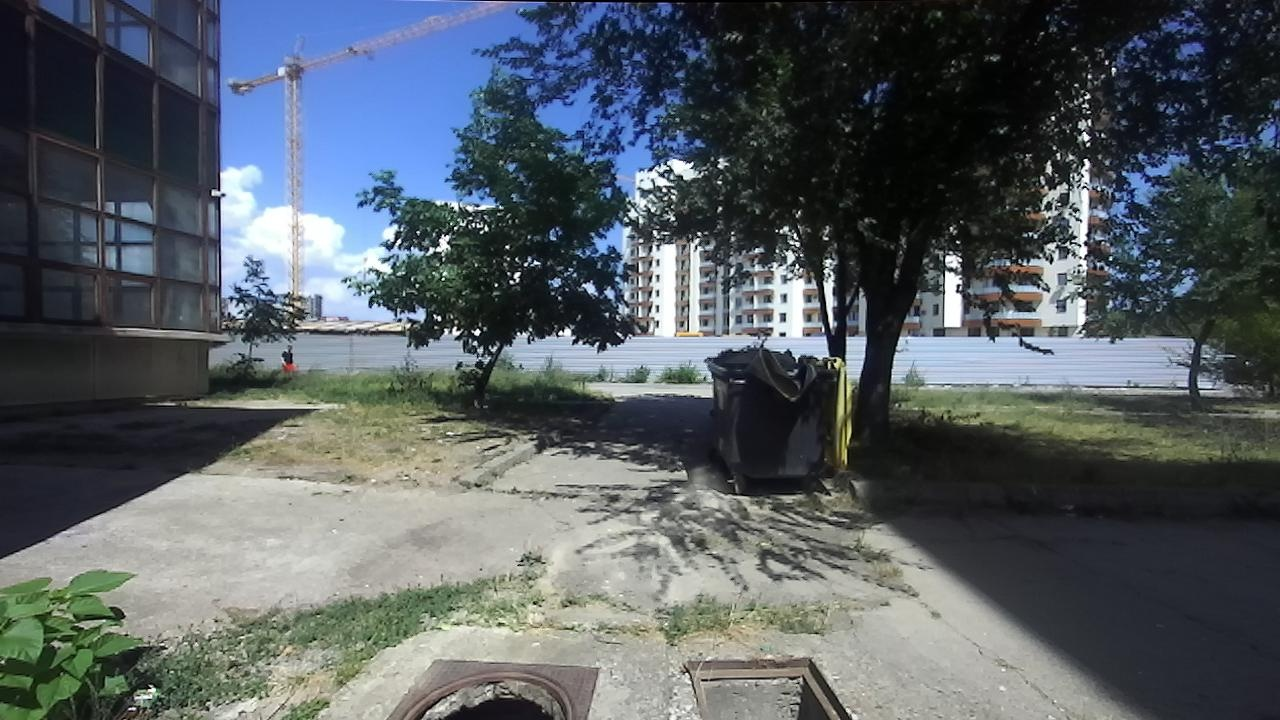drain: (683, 654, 857, 719), (391, 668, 583, 720)
